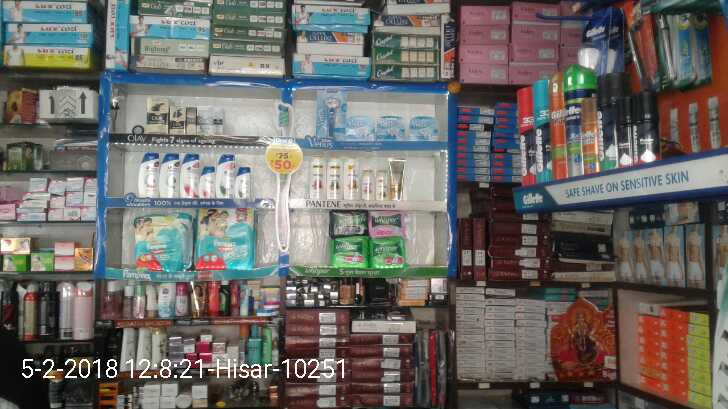gillete: (599, 74, 619, 169), (516, 88, 535, 186), (535, 78, 551, 187), (553, 75, 567, 184), (567, 67, 580, 182), (620, 97, 636, 166), (583, 102, 599, 169)
venus: (316, 88, 345, 140), (409, 116, 438, 138), (346, 117, 373, 140), (377, 116, 404, 138)
